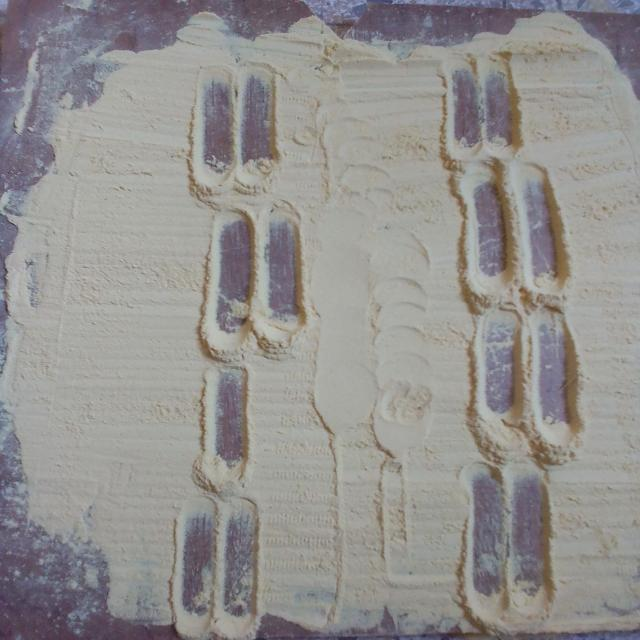double: (458, 458, 558, 598), (196, 214, 310, 332), (456, 184, 574, 284), (470, 316, 582, 420), (170, 494, 262, 612), (188, 62, 282, 174), (441, 69, 527, 152)
single: (192, 362, 254, 475)
